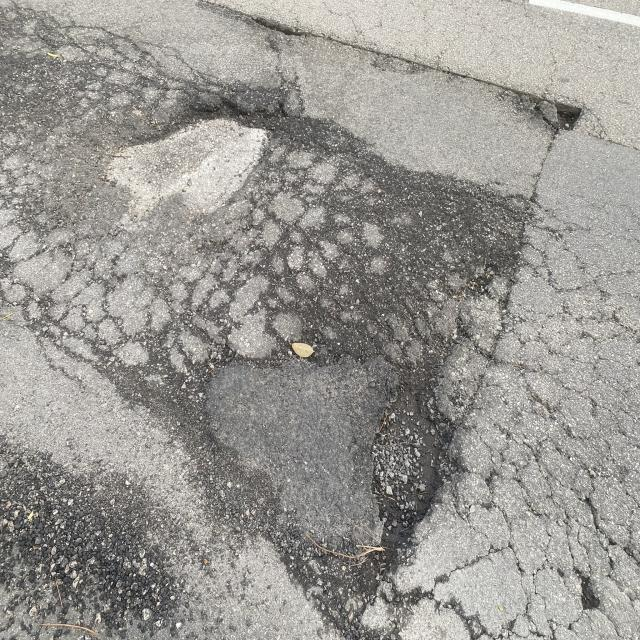pothole: (145, 345, 523, 576), (168, 67, 333, 193), (517, 82, 598, 166)
